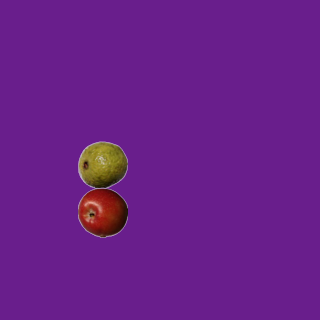Apple Braeburn: (77, 187, 127, 237)
Guava: (77, 139, 127, 189)
